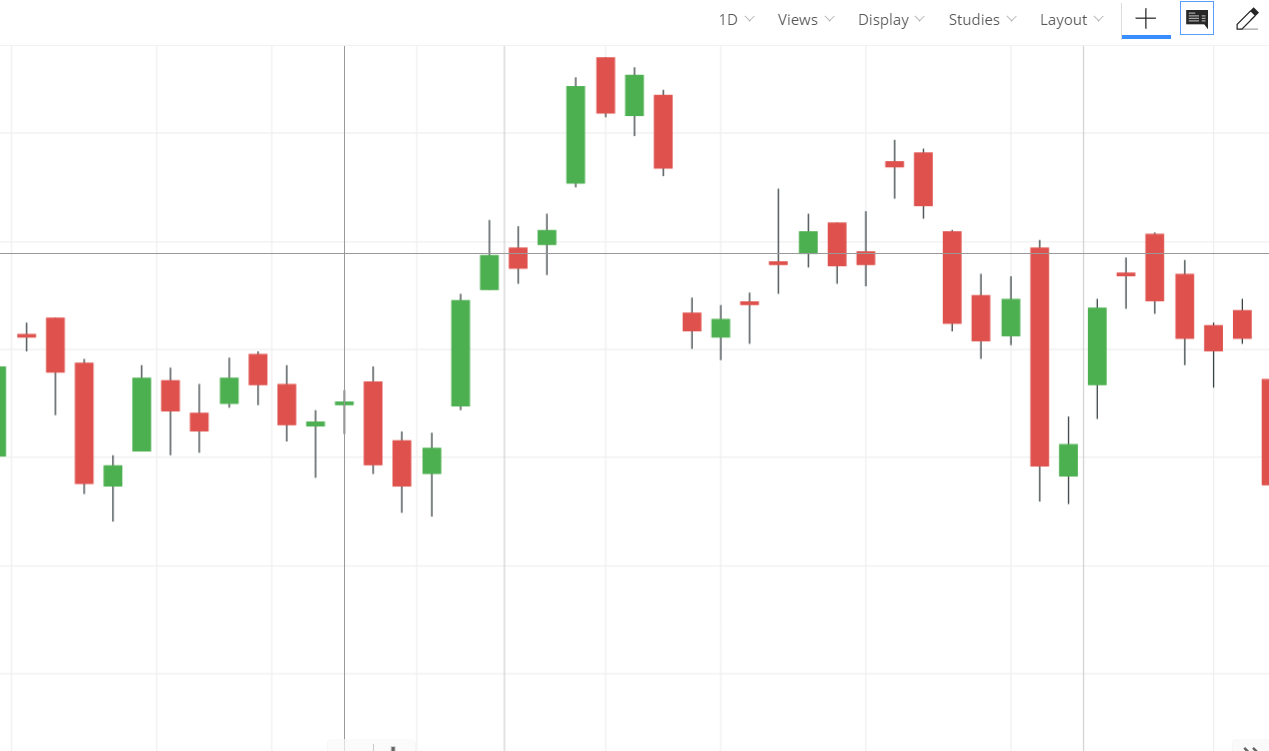doji: (762, 176, 794, 304), (877, 126, 911, 206), (302, 398, 327, 486), (734, 280, 764, 349), (1110, 246, 1140, 312), (335, 384, 355, 448)
